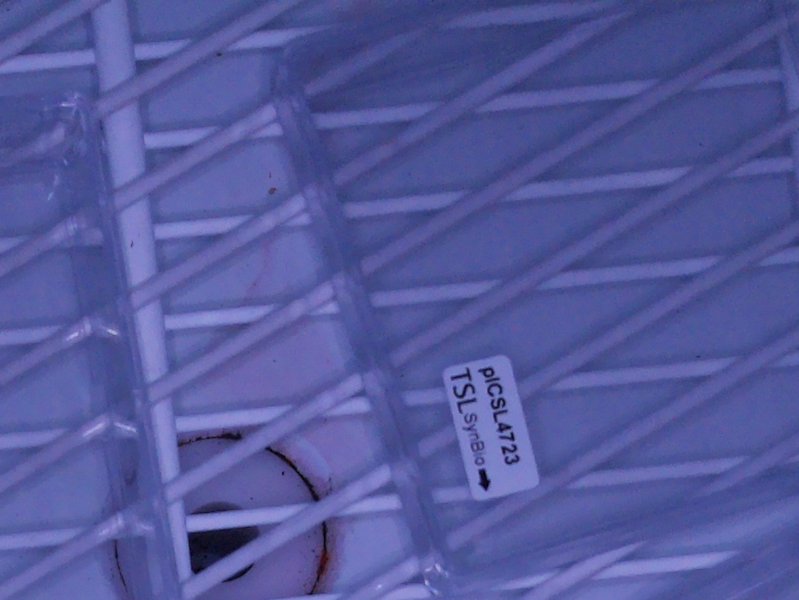plate: (270, 1, 799, 592), (1, 86, 185, 600)
